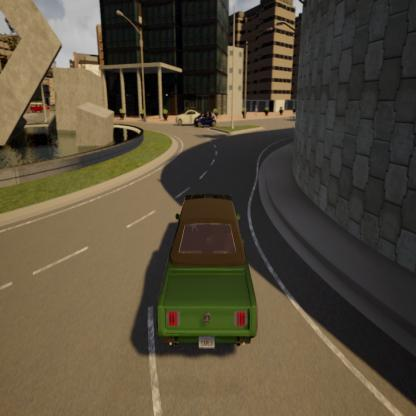Cars: (148, 183, 262, 358), (174, 106, 204, 128), (192, 109, 220, 128)
